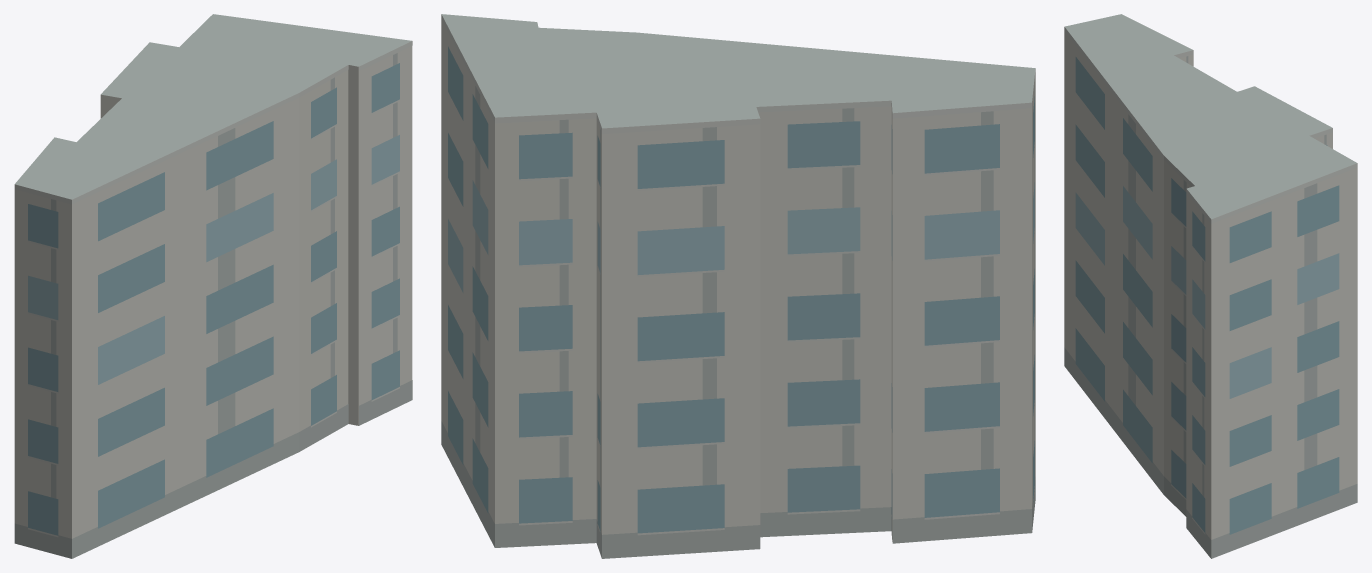
File: survey-upis-32802487.glb
3 views of the same model, side by side, from view 1: azimuth 30°, elevation 25°; view 2: azimuth 150°, elevation 25°; view 3: azimuth 270°, elevation 25° (orthographic). The views are drawn at different scales.
Visible parts, largest first — view 1: survey-upis-32802487.tmp; view 2: survey-upis-32802487.tmp; view 3: survey-upis-32802487.tmp.
Boxes of the visible parts, x1,y1,x2,y2 form: survey-upis-32802487.tmp: (14,14,412,558); survey-upis-32802487.tmp: (441,14,1035,558); survey-upis-32802487.tmp: (1064,14,1357,558).
Bounding box in the file's own units: 23.76 × 18.3 × 14.33.
